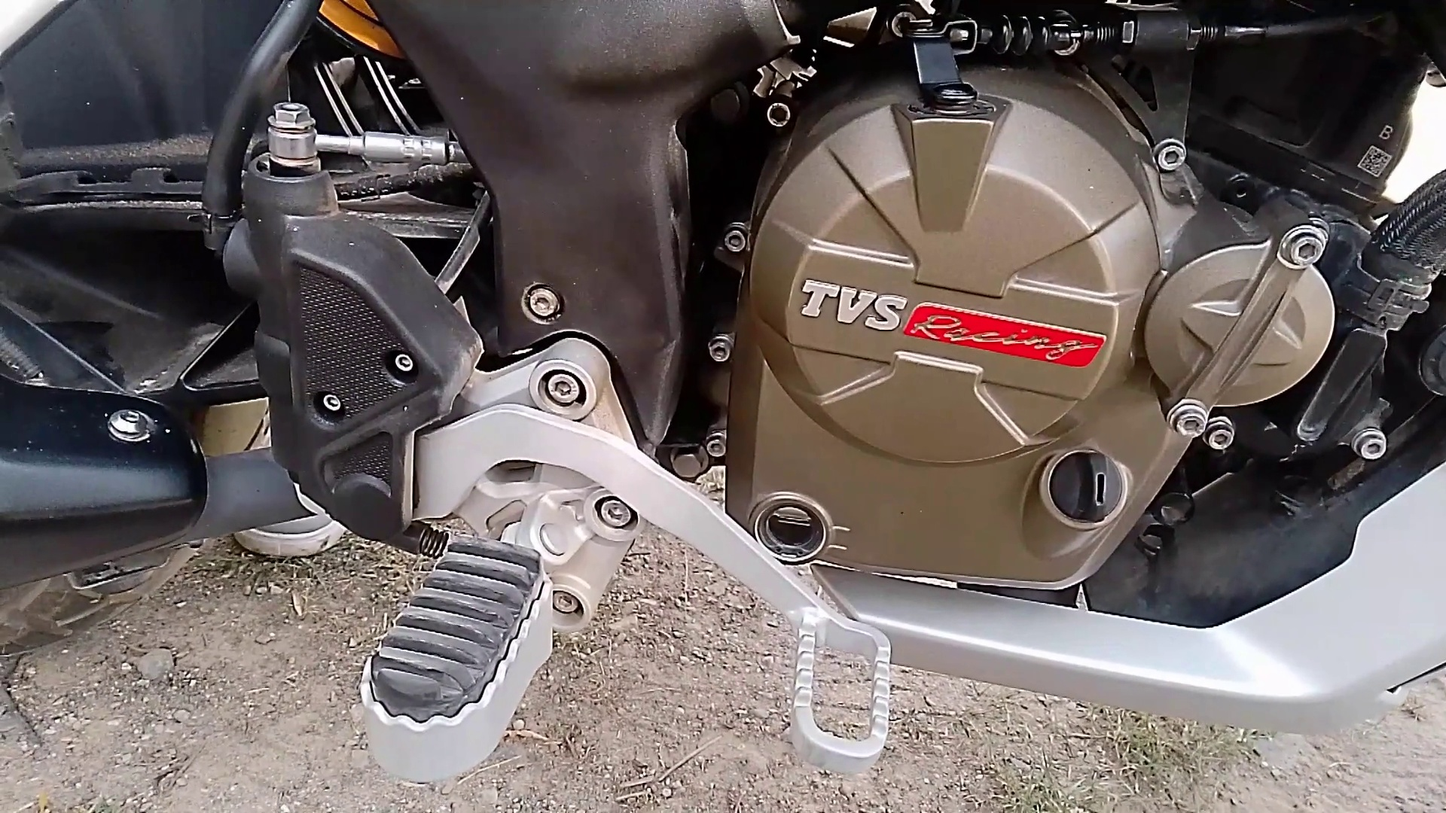engine: (708, 0, 1352, 629)
oil_cap: (1036, 433, 1143, 534)
oil_marker: (749, 472, 870, 578)
